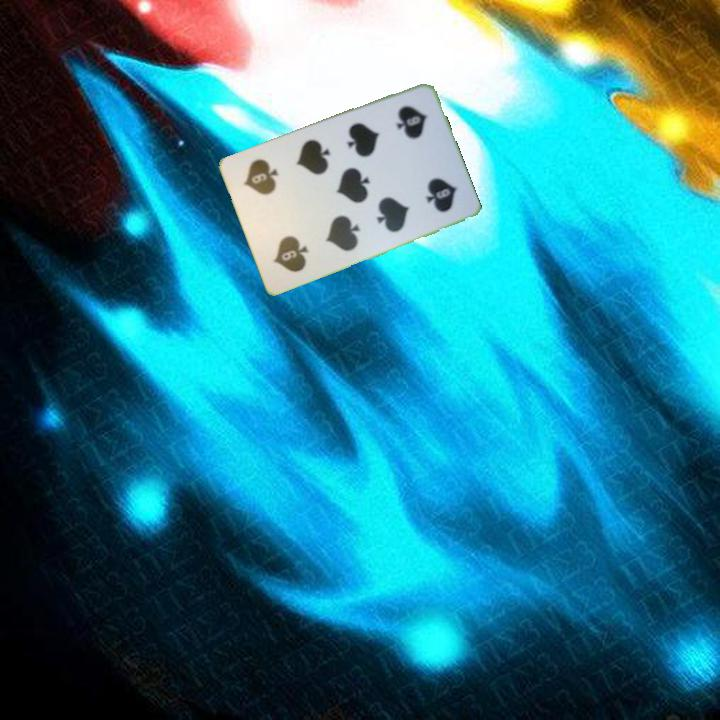s_9.png: (372, 91, 449, 172), (251, 203, 328, 284)
